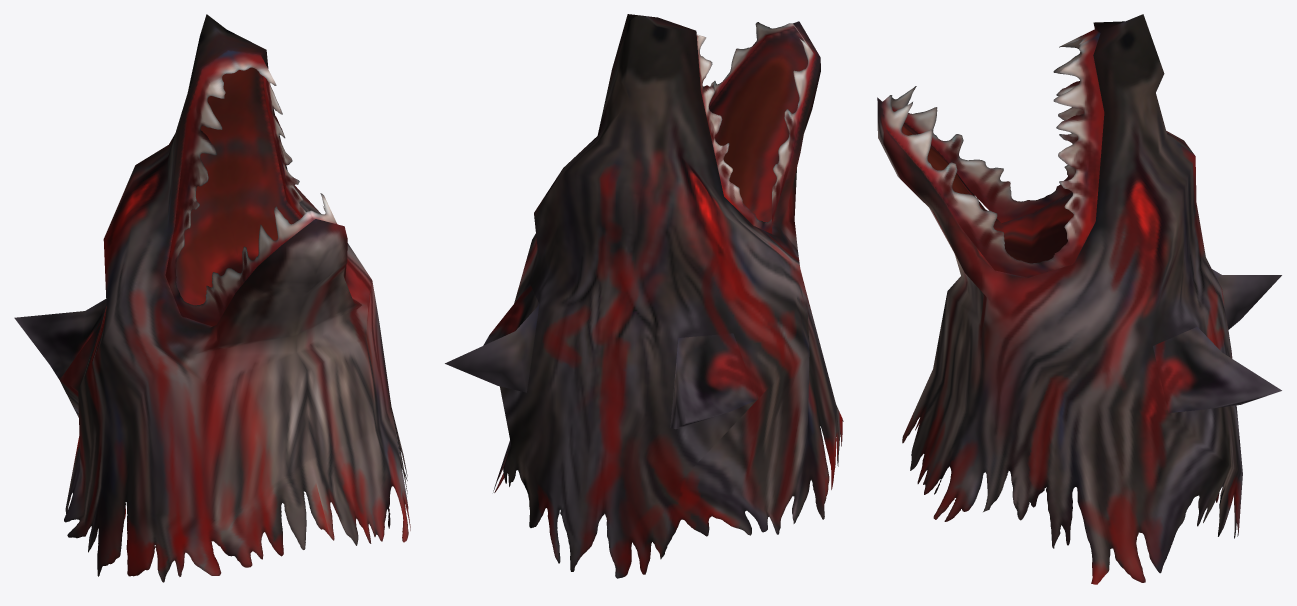
The model's file is PRP_HeadWolf.FBX.
3 views of the same model, side by side, from view 1: azimuth 30°, elevation 25°; view 2: azimuth 150°, elevation 25°; view 3: azimuth 270°, elevation 25° (orthographic). The views are drawn at different scales.
Parts seen in each view (by area): view 1: PRP_HeadWolf; view 2: PRP_HeadWolf; view 3: PRP_HeadWolf.
Part boxes in pixels (x1,y1,x2,y2): PRP_HeadWolf: (14,14,410,582); PRP_HeadWolf: (445,14,843,578); PRP_HeadWolf: (877,14,1281,584).
Size of the model in its own units: 77.11 by 128 by 88.91.
